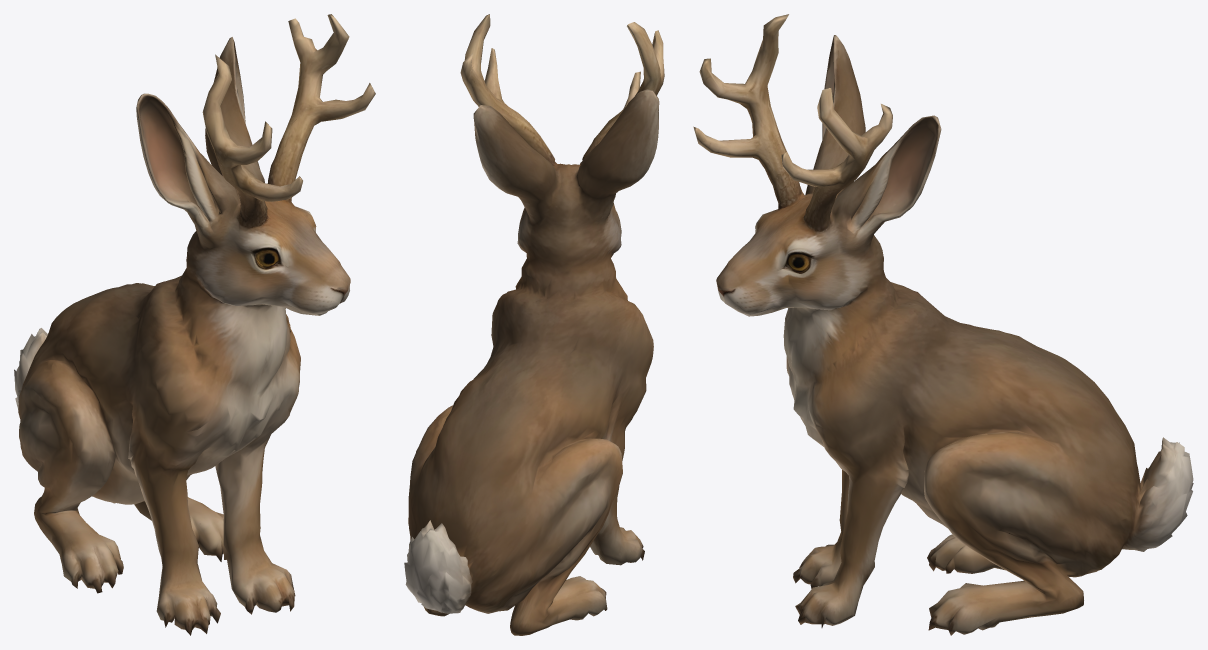
The model's file is jackalope.glb.
The picture shows the model from 3 angles, left to right: view 1: azimuth 30°, elevation 25°; view 2: azimuth 150°, elevation 25°; view 3: azimuth 270°, elevation 25°; orthographic projection. The views are drawn at different scales.
Visible parts, largest first — view 1: tripo_node_a9d4b4a9-a82c-4e66-85eb-ea0d690a382d; view 2: tripo_node_a9d4b4a9-a82c-4e66-85eb-ea0d690a382d; view 3: tripo_node_a9d4b4a9-a82c-4e66-85eb-ea0d690a382d.
Boxes of the visible parts, x1,y1,x2,y2 form: tripo_node_a9d4b4a9-a82c-4e66-85eb-ea0d690a382d: (14,14,375,635); tripo_node_a9d4b4a9-a82c-4e66-85eb-ea0d690a382d: (404,14,664,635); tripo_node_a9d4b4a9-a82c-4e66-85eb-ea0d690a382d: (693,14,1193,635).
Size of the model in its own units: 0.4118 by 0.9819 by 0.7774.
1 material, 1 textured.
